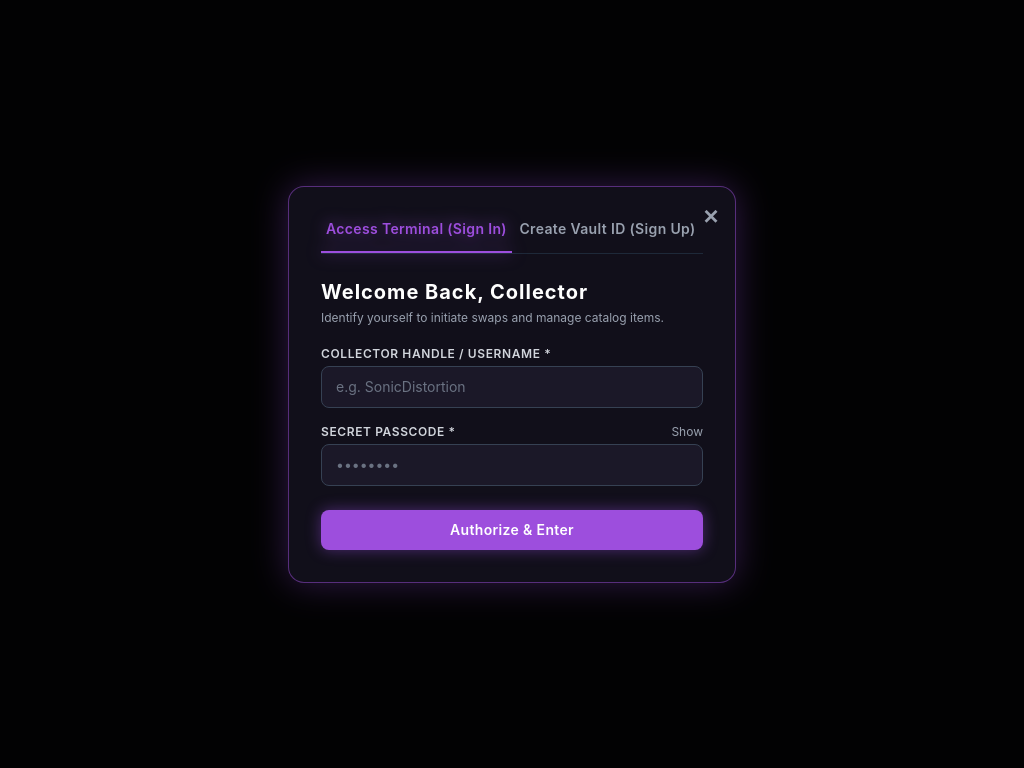
Test: AuthModal Component › renders sign in fields and switches tabs smoothly
Expected: the button "Access Terminal (Sign In)" is shown, [321, 218, 512, 252]
Expected: the field with placeholder "collector@underground.io" is not shown
Note: לחיצה על טאב יצירת חשבון
Click the button "Create Vault ID (Sign Up)": x=608, y=236 [512, 218, 703, 252]
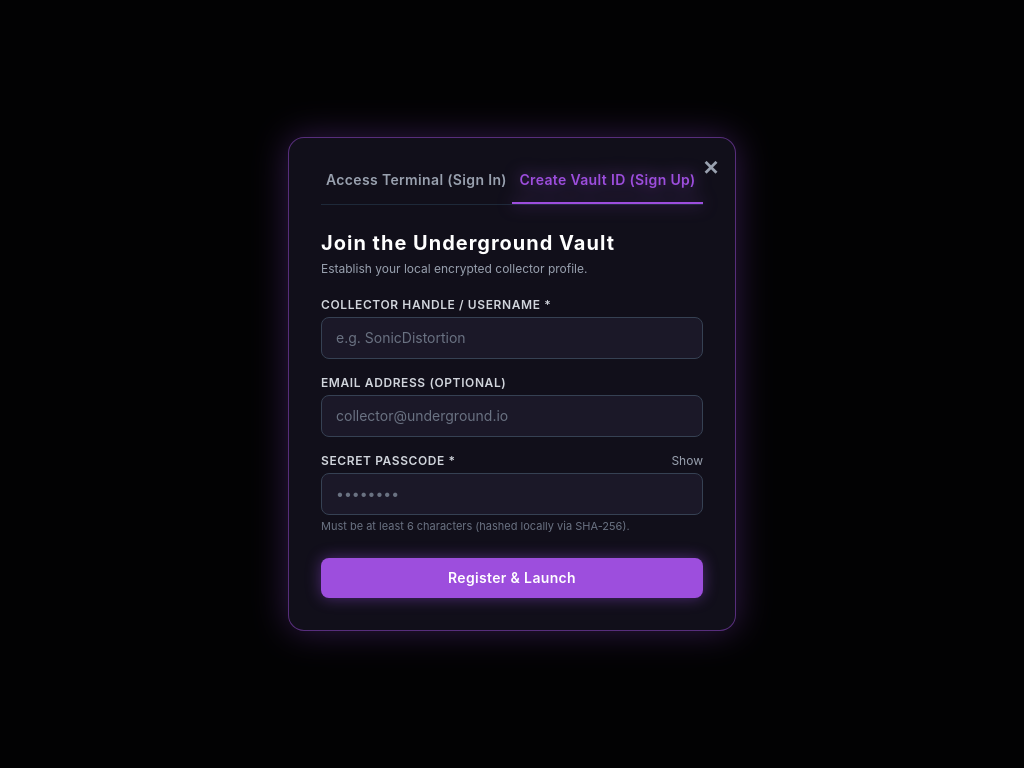
Expected: the field with placeholder "collector@underground.io" is shown, [321, 395, 703, 437]
